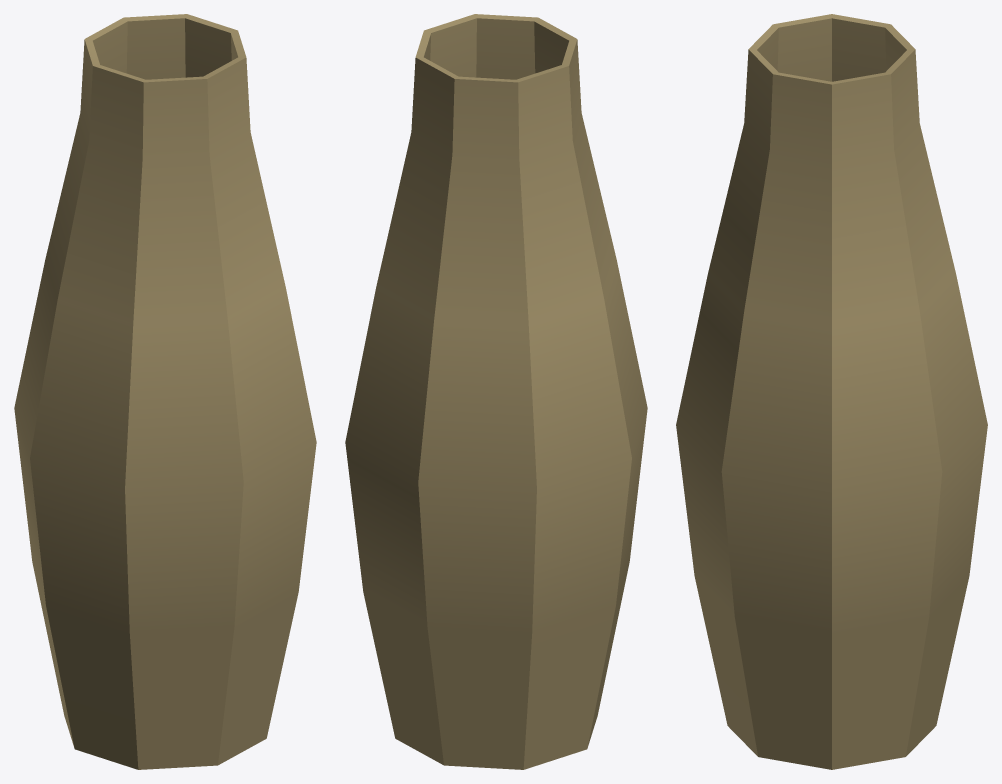
Rendered from msh_vaseB.fbx.
3 renders of one model, left to right at view 1: azimuth 30°, elevation 25°; view 2: azimuth 150°, elevation 25°; view 3: azimuth 270°, elevation 25°, orthographic.
Visible parts, largest first — view 1: msh_vaseB; view 2: msh_vaseB; view 3: msh_vaseB.
Part boxes in pixels (x1,y1,x2,y2): msh_vaseB: [14, 14, 316, 769]; msh_vaseB: [345, 14, 647, 769]; msh_vaseB: [676, 14, 987, 769].
Bounding box in the file's own units: 36.38 × 87.17 × 36.38.
